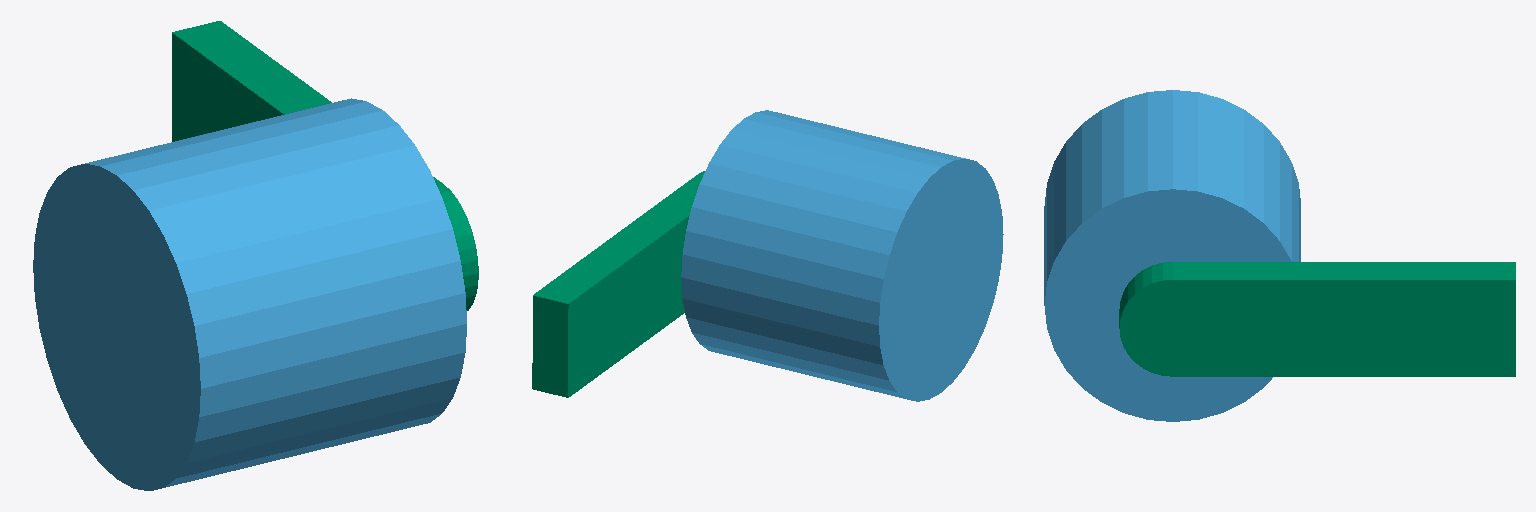
URDF robot description (template):
<?xml version="1.0"?>
<robot name="template">

    <gazebo reference="base">
        <material>Gazebo/Red</material>
    </gazebo>
    <gazebo reference="link1">
        <material>Gazebo/DarkGrey</material>
    </gazebo>

    <!--World & Base -->	
    <link name="world">
    </link> 
    <joint name="base_joint" type="fixed">
        <origin xyz="0 0 0" rpy="0 1.57 0"/> 
        <parent link="world"/>
        <child link="base"/>
        <axis xyz="0 0 0"/>
    </joint>
    <link name="base">
        <inertial>
            <origin xyz="0 0 0" rpy="0 0 0"/>
            <mass value="1.0"/>
            <inertia ixx="0.1" iyy="0.1" izz="0.1" ixy="0" ixz="0" iyz="0"/>
        </inertial>
        <visual>
            <origin xyz="0 0 0" rpy="0 0 0"/>
            <geometry>
                <cylinder length="0.055" radius="0.03"/>
            </geometry> 
        </visual>
    </link> 

    <!--First Joint & Link  --> 
    <joint name="joint" type="revolute">
        <origin xyz="0 0 0.035" rpy="0 0 0"/> 
        <parent link="base"/>
        <child link="link"/>
        <limit effort="300" velocity="100" lower="-3.14" upper="3.14" />
        <dynamics damping="0.02" friction="0.0"/>
        <axis xyz="0 0 1"/>
    </joint> 
    <link name="link">
        <inertial>
            <origin xyz="0 0.04 0" rpy="0 0 0"/>
            <mass value="0.5"/>
            <inertia ixx="0.001" iyy="0.001" izz="0.002" ixy="0" ixz="0" iyz="0"/>
        </inertial>
		<visual>
            <origin xyz="0 0.04 0" rpy="0 0 0"/>
            <geometry>
				<box size="0.025 0.08 0.01"/>
            </geometry>	
        </visual>
        <visual>
            <origin xyz="0 0 0" rpy="0 0 0"/>
            <geometry>
                <cylinder length="0.01" radius="0.0125"/>
            </geometry> 
        </visual>
    </link>

    <!-- Custom plugin inseriton -->
    <!-- <gazebo>
        <plugin name="compliant_act_j1" filename="libqbmove_plugin.so">
            <joint>joint</joint>
            <operation_mode>4</operation_mode>
            <pub_eltau>true</pub_eltau>
            <pub_state>true</pub_state>
            <namespace>template</namespace>
            <sub_ext_tau>false</sub_ext_tau>
        </plugin>
    </gazebo> -->

      <gazebo>
        <plugin name="qbmove_vsa_j" filename="libqbmove_plugin.so">
            <!-- # REQUIRED tags -->
            <joint>joint</joint>
            <operation_mode>5</operation_mode>     <!--select the operational mode (see above)-->
            <pub_eltau>true</pub_eltau>             <!--enable elastic torques publishing-->
            <pub_state>true</pub_state>            <!--# enable link state publishing-->
            <sub_ext_tau>true</sub_ext_tau>        <!--enable subscription to external torques -->
            <namespace>template</namespace>
            <t_sample>0.01</t_sample>
            <spring_a1>8.9992</spring_a1>
            <spring_k1>0.0019</spring_k1>
            <spring_a2>8.9992</spring_a2>
            <spring_k2>0.0019</spring_k2>
            <max_def>0.8</max_def>
            <!-- motors parameters -->
            <mot_1_J>0.0233</mot_1_J>               <!-- # motor inertia-->    
            <mot_1_D>0.0019</mot_1_D>               <!-- # motor damping-->
            <mot_1_tauMax>6.0</mot_1_tauMax>        <!-- # maximum motor torque-->
            <mot_1_maxVel>6.0</mot_1_maxVel>        <!-- # maximum motor velocity -->
            <mot_1_minPos>-inf</mot_1_minPos>       <!-- # minimum motor position -->
            <mot_1_maxPos>inf</mot_1_maxPos>        <!-- # maximum motor position -->
            <mot_1_tauFric>0.5</mot_1_tauFric>      <!-- # static motor friction-->
            <mot_2_J>0.0233</mot_2_J>
            <mot_2_D>0.0019</mot_2_D>
            <mot_2_tauMax>6.0</mot_2_tauMax>
            <mot_2_maxVel>6.0</mot_2_maxVel>
            <mot_2_minPos>-inf</mot_2_minPos>
            <mot_2_maxPos>inf</mot_2_maxPos>
            <mot_2_tauFric>0.5</mot_2_tauFric>
            <!-- controllers parameters -->
            <ctrl_1_P>125</ctrl_1_P>                <!-- # proportional gain on motor -->
            <ctrl_1_I>0</ctrl_1_I>                 <!--  # integral gain on motor -->
            <ctrl_1_D>4.5</ctrl_1_D>                <!--  # derivative gain on motor -->
            <ctrl_2_P>125</ctrl_2_P>                
            <ctrl_2_I>0</ctrl_2_I>
            <ctrl_2_D>4.5</ctrl_2_D>
        </plugin>
    </gazebo>

<!--     <gazebo>
        <plugin name="compliant_act_j1" filename="libbavs_plugin.so">
            <joint>joint</joint>
            <operation_mode>1</operation_mode>
            <pub_eltau>true</pub_eltau>
            <pub_state>true</pub_state>
            <sub_ext_tau>false</sub_ext_tau>
        </plugin>
    </gazebo> -->

<!--     <gazebo>
        <plugin name="compliant_act_j1" filename="libawas_ii_plugin.so">
            <joint>joint</joint>
            <operation_mode>1</operation_mode>
            <pub_eltau>true</pub_eltau>
            <pub_state>true</pub_state>
            <sub_ext_tau>false</sub_ext_tau>
        </plugin>
    </gazebo> -->
</robot>

--- Facts derived from the render (not from the file) ---
Views: 3 orthographic renders of the robot side by side, from view 1: azimuth 30°, elevation 25°; view 2: azimuth 150°, elevation 25°; view 3: azimuth 270°, elevation 25°.
Robot: template — 3 links, 2 joints (1 revolute, 1 fixed); root link world; default pose: all joints at 0.
Links seen in each view (by area): view 1: base, link; view 2: base, link; view 3: base, link.
Link boxes in pixels (x1,y1,x2,y2): base: [33, 98, 466, 490]; link: [172, 21, 478, 310]; base: [681, 110, 1003, 401]; link: [532, 171, 704, 397]; base: [1044, 90, 1300, 421]; link: [1119, 262, 1515, 376].
Bounding box of the posed robot: 0.0675 × 0.11 × 0.06 m (x, y, z).
Geometry: primitives only (box / cylinder / sphere), no mesh files.